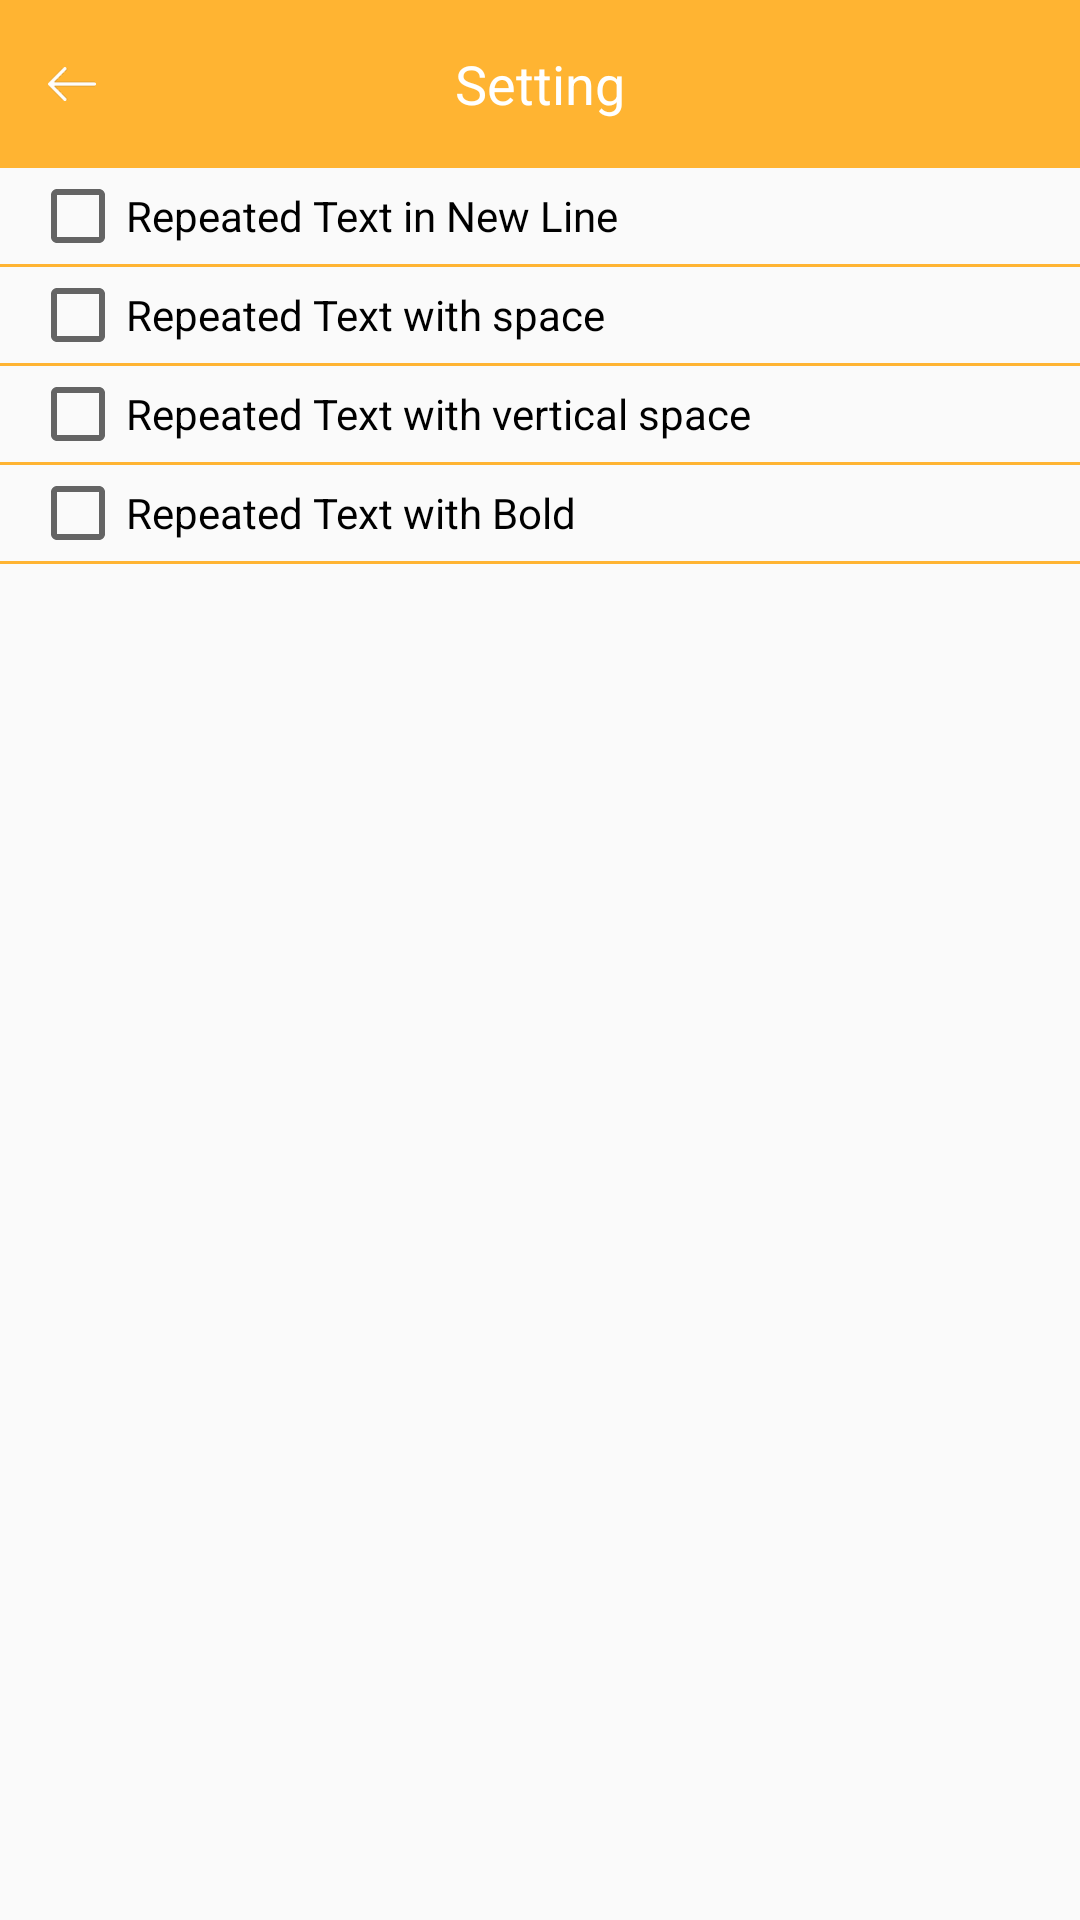

Named icons in this screenshot (1080×1920) and their centers, [x,y]:
backarrow: [72,84]
